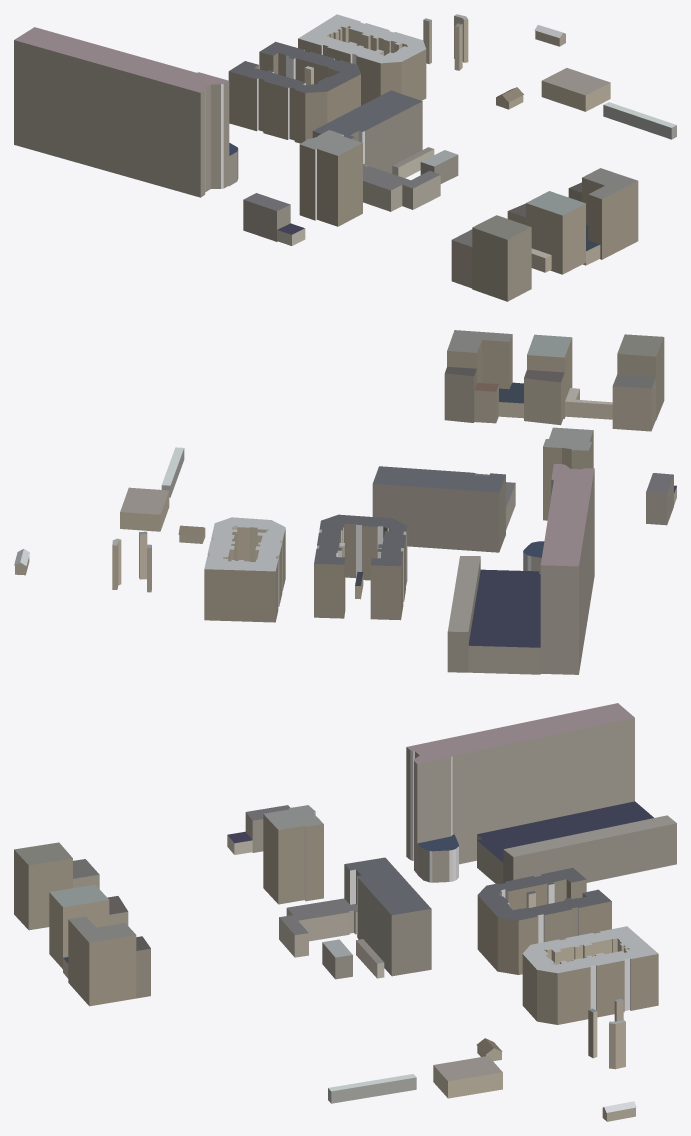
3 renders of one model, top to bottom at view 1: azimuth 30°, elevation 25°; view 2: azimuth 150°, elevation 25°; view 3: azimuth 270°, elevation 25°, orthographic. The views are drawn at different scales.
Visible parts, largest first — view 1: tuile; view 2: tuile; view 3: tuile.
Part boxes in pixels (<box>): tuile: <box>14,14,676,301</box>; tuile: <box>14,330,676,674</box>; tuile: <box>14,703,676,1121</box>.
Bounding box in the file's own units: 283 × 65.58 × 283.
